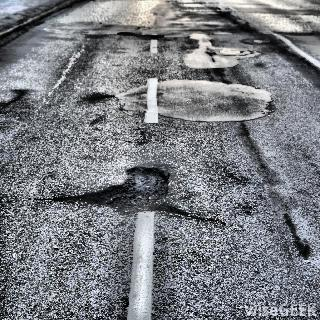pothole: (30, 153, 216, 224), (114, 71, 273, 124), (180, 31, 264, 72), (114, 25, 166, 43), (0, 85, 25, 110)
